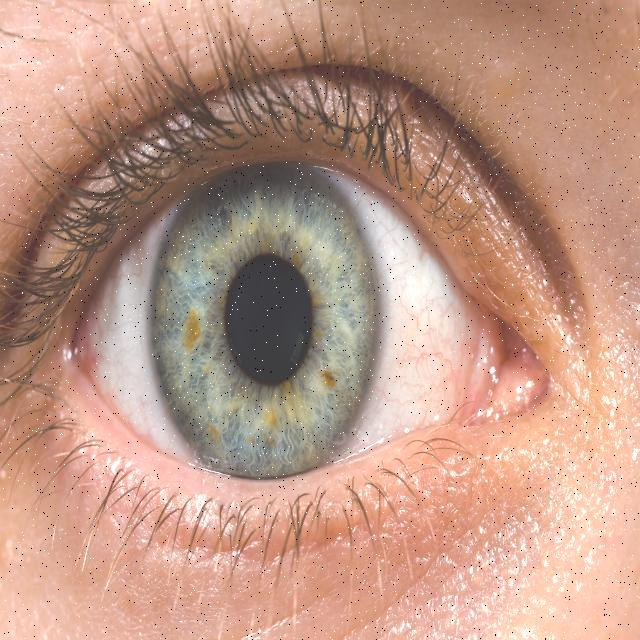Normal: (12, 68, 614, 565)
